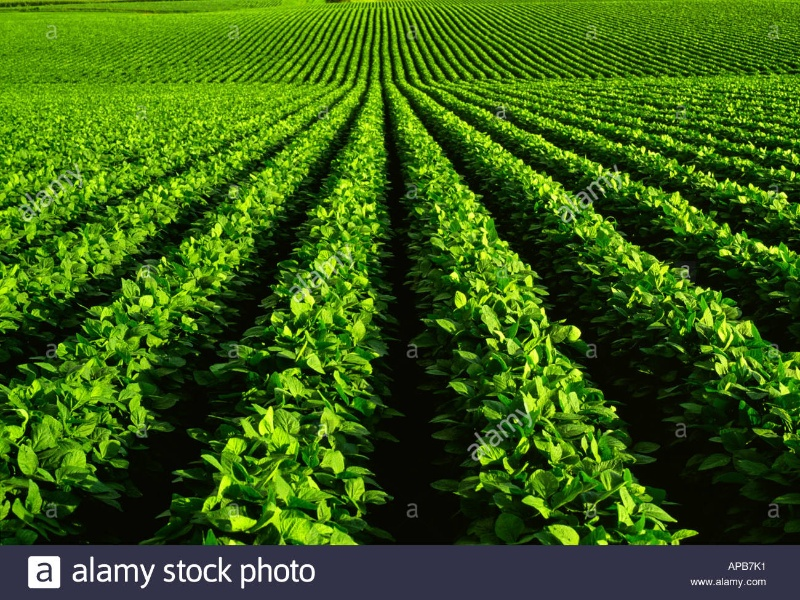soyabean: (186, 316, 379, 539), (452, 351, 651, 524), (626, 268, 797, 453), (559, 227, 710, 325), (411, 199, 528, 325), (276, 208, 380, 303), (189, 187, 268, 279), (628, 178, 741, 236), (194, 143, 260, 181)
